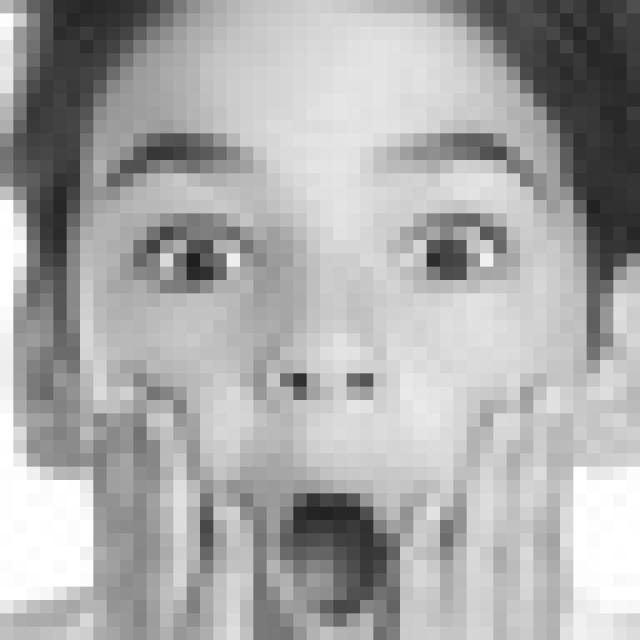surprise: (100, 123, 560, 640)
